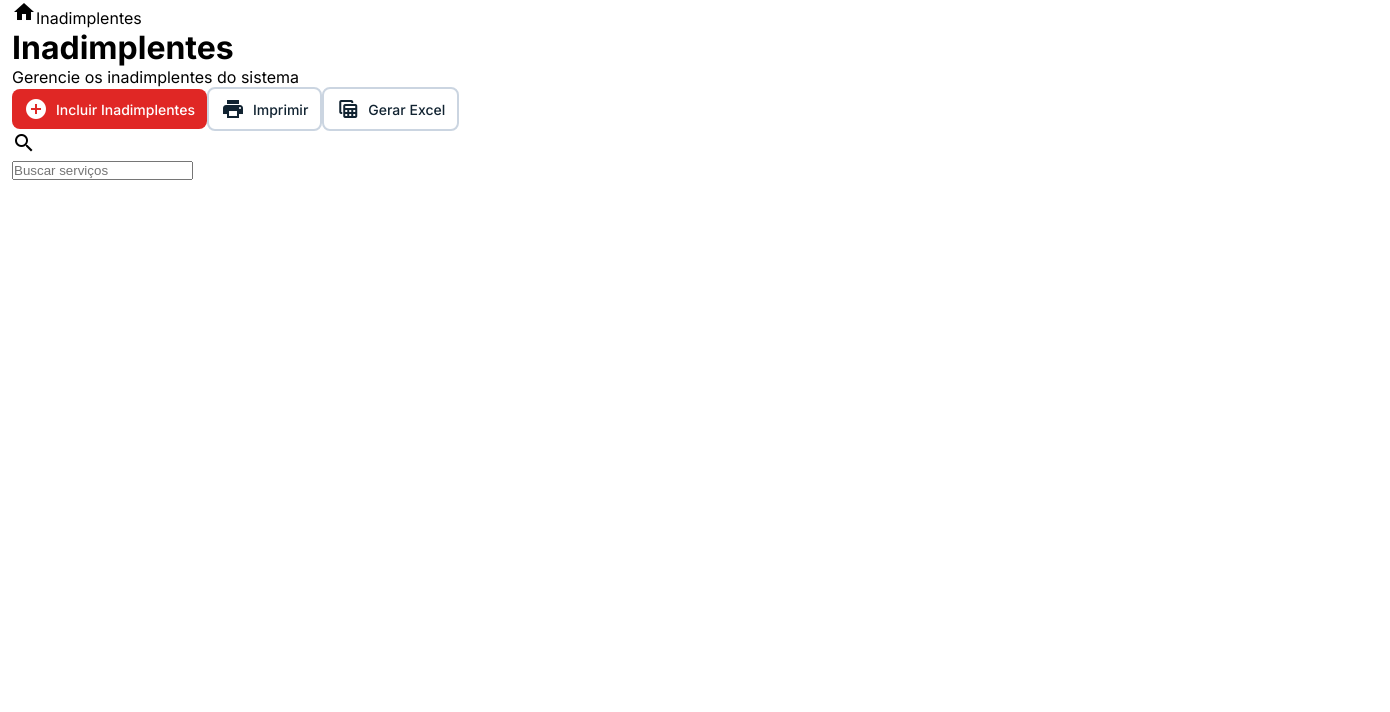
it: InadimplentesHeader › When "Dados do Devedor" tab is clicked, then shows debtor fields
Click the text "Incluir Inadimplentes": [126, 109] box x1=56 y1=100 x2=195 y2=118
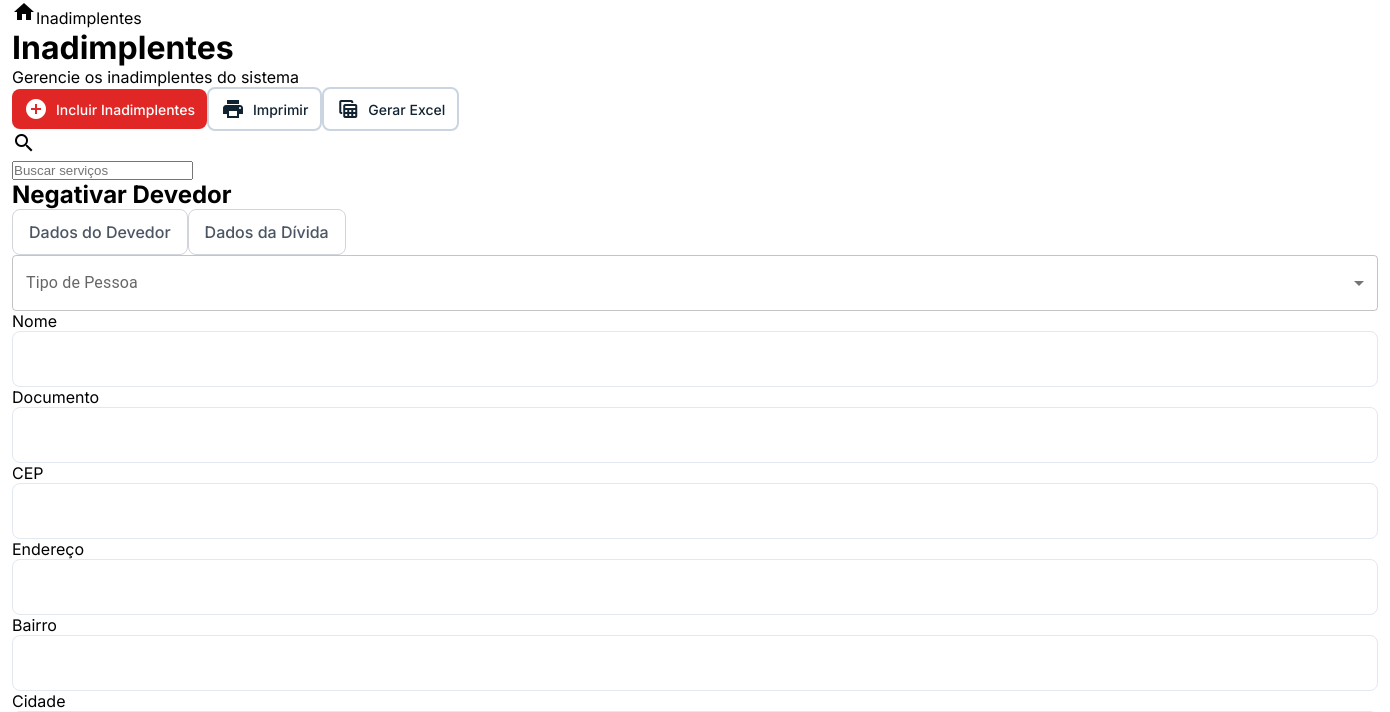
Click the button "Dados da Dívida": [267, 232] box x1=188 y1=209 x2=346 y2=255
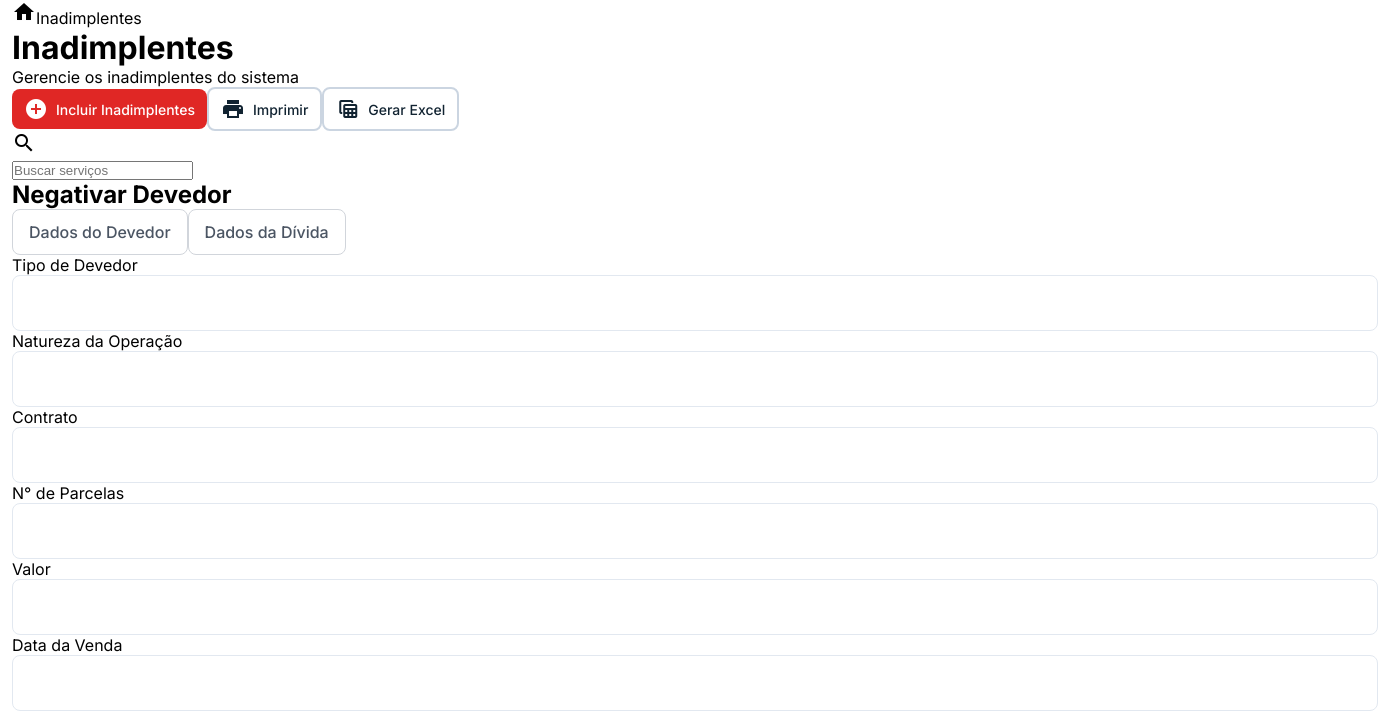
Click the button "Dados do Devedor": [100, 232] box x1=12 y1=209 x2=188 y2=255
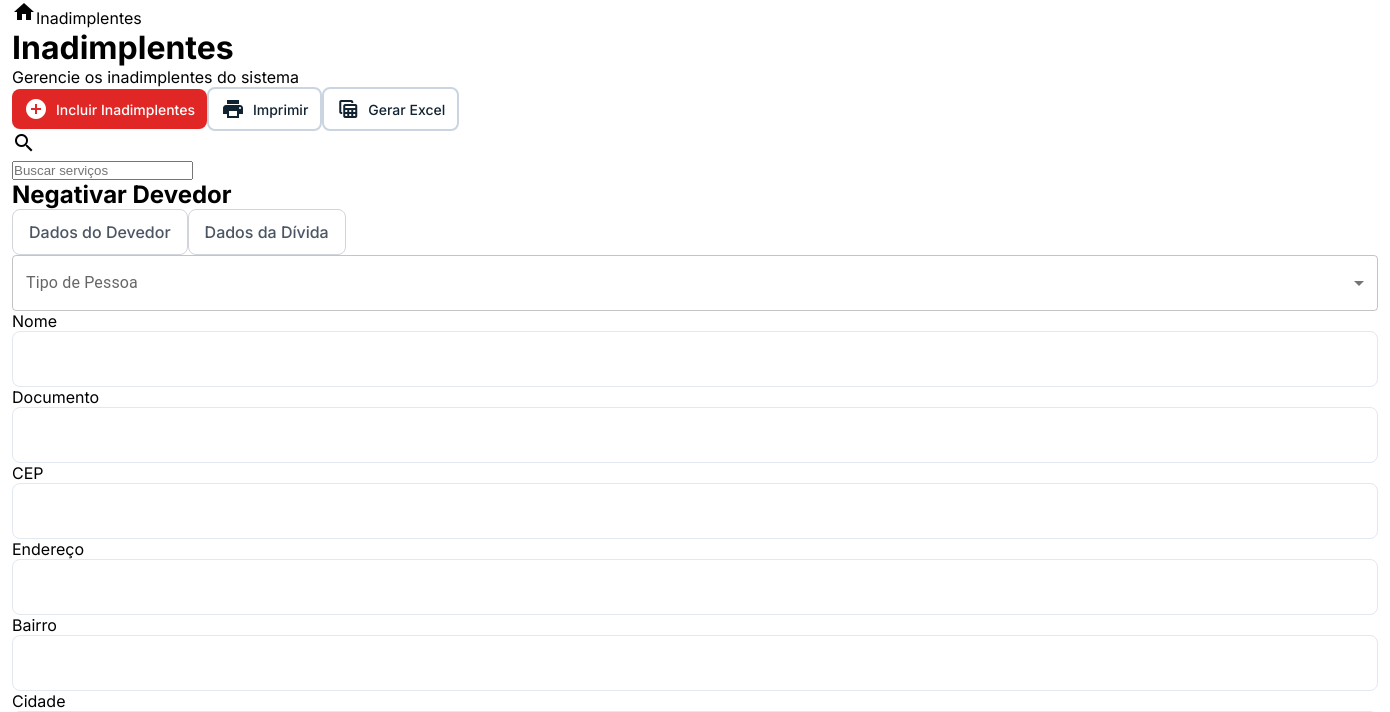
Result: the text "Nome" is shown at x1=12 y1=311 x2=57 y2=331
